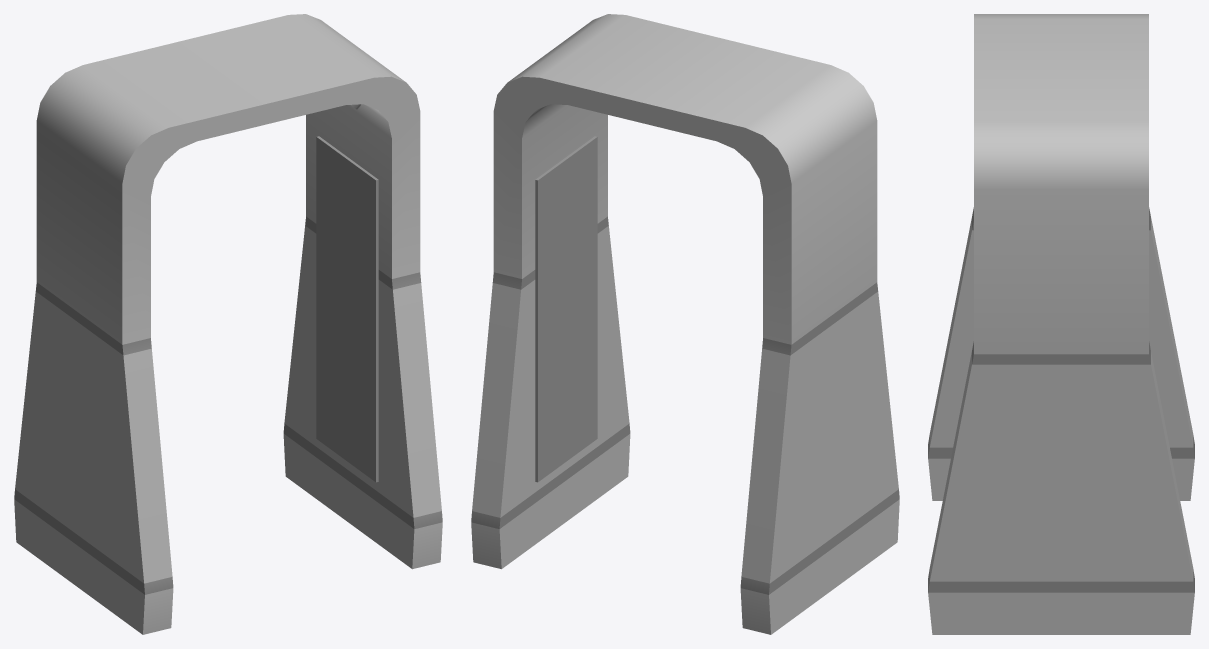
File: M_DisinfectGate_0.fbx
3 views of the same model, side by side, from view 1: azimuth 30°, elevation 25°; view 2: azimuth 150°, elevation 25°; view 3: azimuth 270°, elevation 25° (orthographic).
Parts seen in each view (by area): view 1: M_DisinfectGate_0; view 2: M_DisinfectGate_0; view 3: M_DisinfectGate_0.
Part boxes in pixels (<box>): M_DisinfectGate_0: <box>14,14,442,634</box>; M_DisinfectGate_0: <box>471,14,899,634</box>; M_DisinfectGate_0: <box>928,14,1194,634</box>.
Size of the model in its own units: 609 by 940 by 463.
